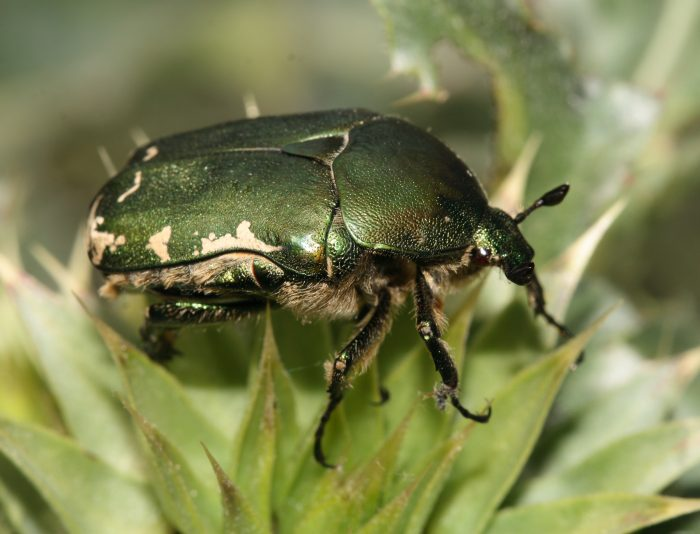Protaetia_ungarica: (83, 81, 595, 474)
